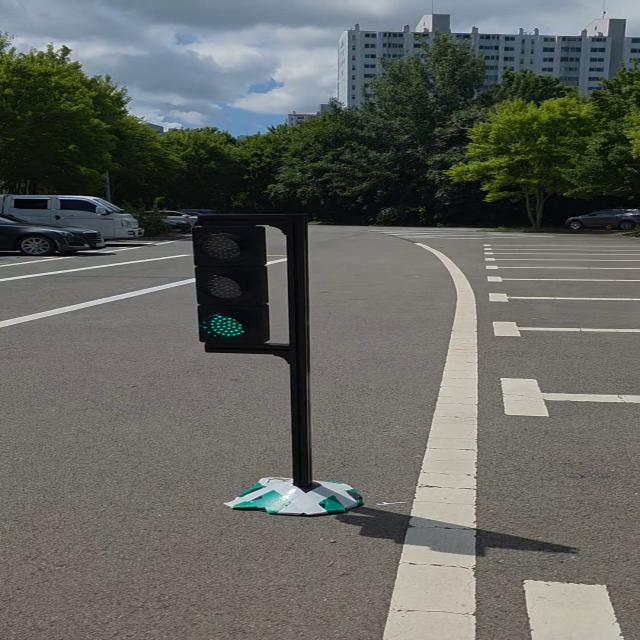green: (194, 222, 264, 352)
